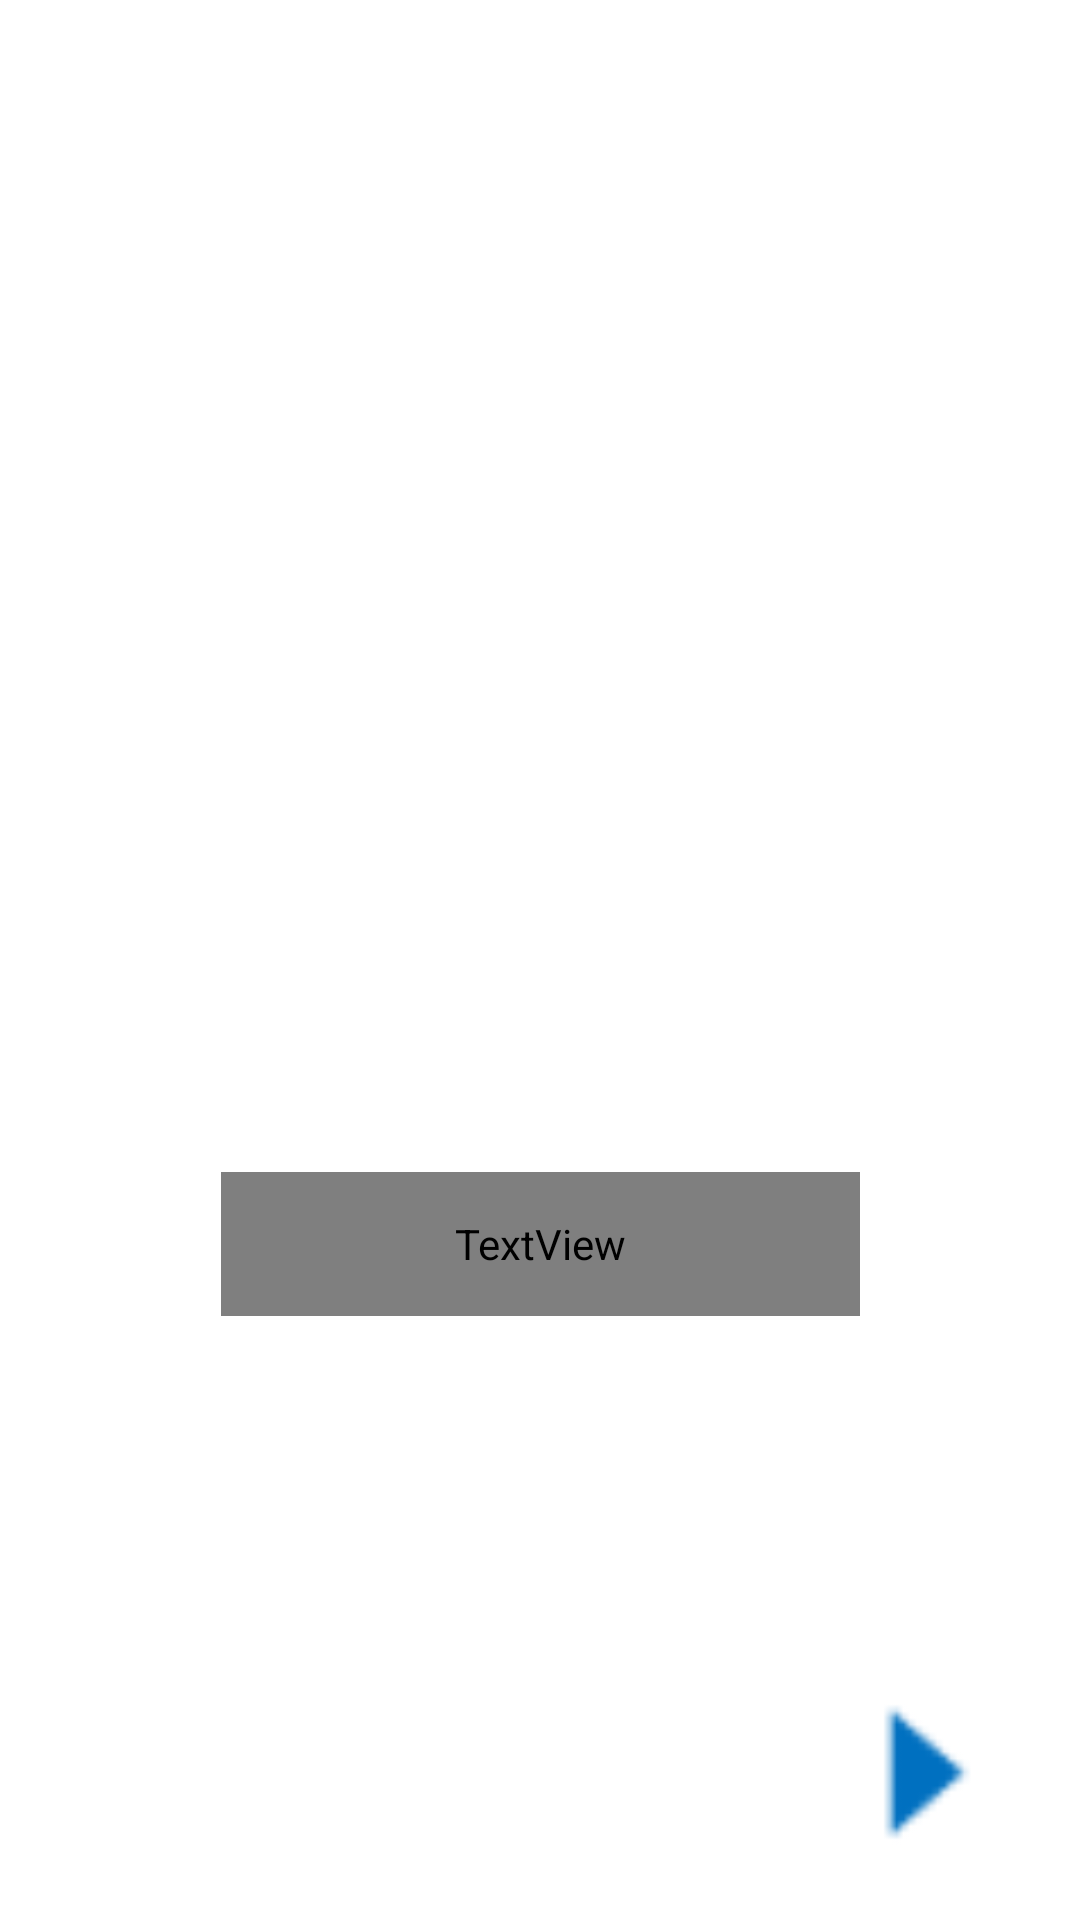

Named icons in this screenshot (1080 x 1920) and their centers, [x,y]:
next: [926,1772]
